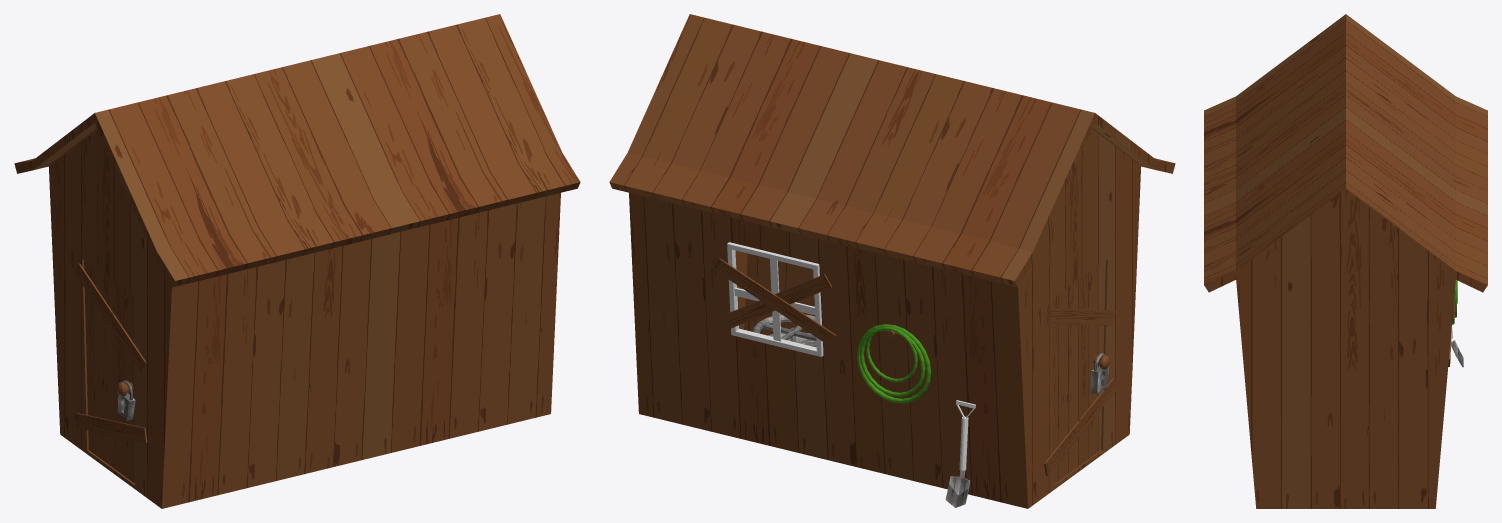
The model's file is shed.fbx.
3 renders of one model, left to right at view 1: azimuth 30°, elevation 25°; view 2: azimuth 150°, elevation 25°; view 3: azimuth 270°, elevation 25°, orthographic. The views are drawn at different scales.
Visible parts, largest first — view 1: Shed, shed door, Wooden board (shed).003, Wooden board (shed).004; view 2: Shed, shed door, Wooden board (shed).004, Shovel, Wooden board (shed).003, bunker lock; view 3: Shed.
Part boxes in pixels (x1,y1,x2,y2): Shed: (14, 14, 580, 508); shed door: (84, 260, 139, 483); Wooden board (shed).003: (75, 263, 146, 373); Wooden board (shed).004: (74, 412, 147, 442); Shed: (609, 14, 1175, 508); shed door: (1050, 260, 1109, 483); Wooden board (shed).004: (1044, 377, 1116, 475); Shovel: (945, 400, 975, 507); Wooden board (shed).003: (1045, 308, 1115, 325); bunker lock: (752, 314, 816, 347); Shed: (1204, 14, 1487, 508).
Size of the model in its own units: 648 by 445 by 560.
